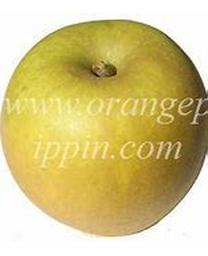apple: (1, 19, 205, 235)
